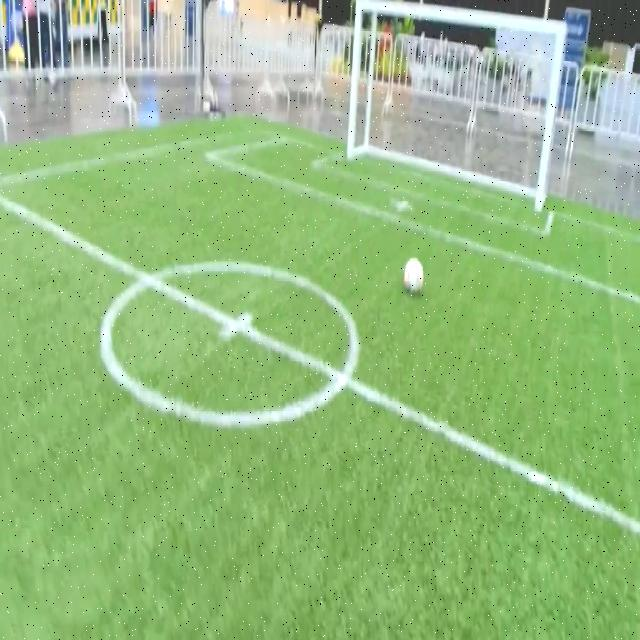ball: (405, 258, 423, 294)
goalpost: (344, 130, 357, 163), (533, 184, 545, 214)
